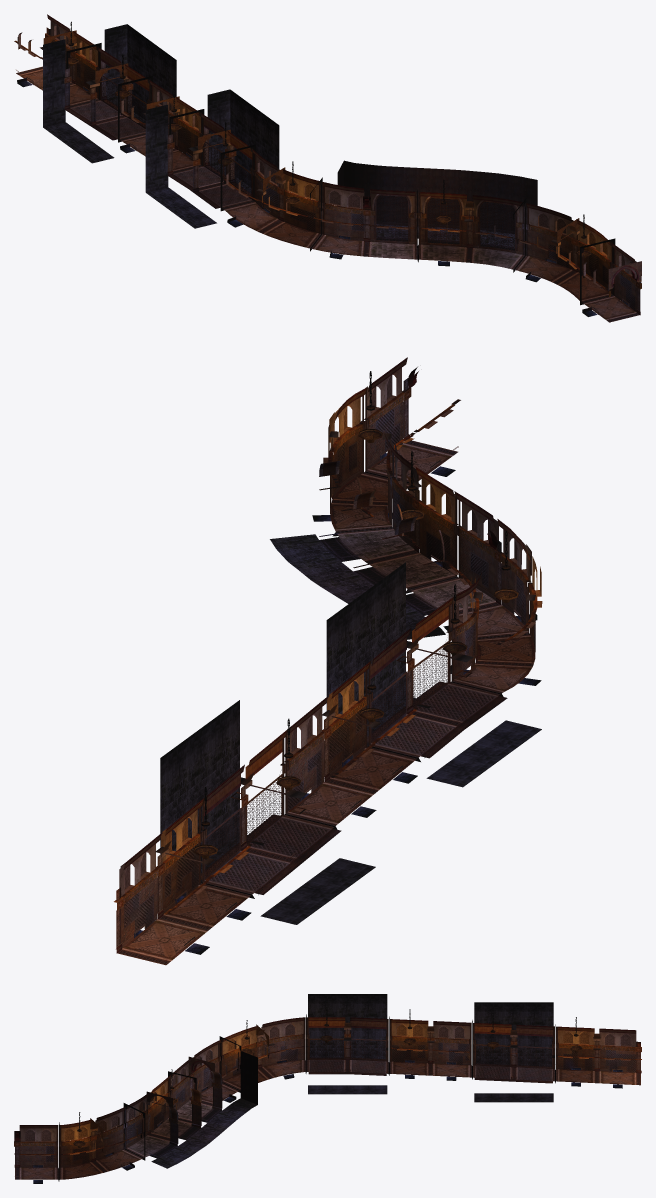
Rendered from 09Hall.gltf.
3 renders of one model, top to bottom at view 1: azimuth 30°, elevation 25°; view 2: azimuth 150°, elevation 25°; view 3: azimuth 270°, elevation 25°, orthographic. The views are drawn at different scales.
Visible parts, largest first — view 1: stg030_o11_Mesh_28, stg030_o11_Mesh_3, stg030_p11_Mesh_1, stg030_o11_Mesh_34, stg030_o11_Mesh_26, stg030_o11_Mesh_32, stg030_o11_Mesh_35, stg030_o11_Mesh_21, stg030_o11_Mesh_9, stg030_o11_Mesh_15, stg030_o11_Mesh_33, stg030_o11_Mesh_13 (+4 smaller); view 2: stg030_o11_Mesh_28, stg030_o11_Mesh_34, stg030_o11_Mesh_26, stg030_o11_Mesh_32, stg030_o11_Mesh_3, stg030_o11_Mesh_9, stg030_o11_Mesh_33, stg030_o11_Mesh_21, stg030_p11_Mesh_1, stg030_o11_Mesh_13, stg030_o11_Mesh_35, stg030_o11_Mesh_15 (+4 smaller); view 3: stg030_o11_Mesh_28, stg030_o11_Mesh_3, stg030_o11_Mesh_26, stg030_o11_Mesh_34, stg030_o11_Mesh_32, stg030_o11_Mesh_9, stg030_o11_Mesh_21, stg030_o11_Mesh_15, stg030_o11_Mesh_13, stg030_p11_Mesh_1, stg030_o11_Mesh_35, stg030_o11_Mesh_33 (+4 smaller).
Boxes of the visible parts, <box> form: stg030_o11_Mesh_28: <box>17,24,627,316</box>; stg030_o11_Mesh_3: <box>17,30,641,312</box>; stg030_p11_Mesh_1: <box>101,75,517,253</box>; stg030_o11_Mesh_34: <box>20,70,635,319</box>; stg030_o11_Mesh_26: <box>65,62,635,310</box>; stg030_o11_Mesh_32: <box>18,23,636,320</box>; stg030_o11_Mesh_35: <box>64,43,615,305</box>; stg030_o11_Mesh_21: <box>16,14,640,322</box>; stg030_o11_Mesh_9: <box>14,33,641,296</box>; stg030_o11_Mesh_15: <box>26,25,636,314</box>; stg030_o11_Mesh_33: <box>16,46,639,322</box>; stg030_o11_Mesh_13: <box>50,21,636,273</box>; stg030_o11_Mesh_28: <box>134,453,541,954</box>; stg030_o11_Mesh_34: <box>123,444,535,959</box>; stg030_o11_Mesh_26: <box>124,408,535,931</box>; stg030_o11_Mesh_32: <box>122,373,542,961</box>; stg030_o11_Mesh_3: <box>121,401,537,944</box>; stg030_o11_Mesh_9: <box>114,385,537,914</box>; stg030_o11_Mesh_33: <box>117,386,533,965</box>; stg030_o11_Mesh_21: <box>116,357,532,961</box>; stg030_p11_Mesh_1: <box>204,641,448,880</box>; stg030_o11_Mesh_13: <box>119,368,537,896</box>; stg030_o11_Mesh_35: <box>197,385,532,898</box>; stg030_o11_Mesh_15: <box>120,375,541,947</box>; stg030_o11_Mesh_28: <box>33,994,622,1183</box>; stg030_o11_Mesh_3: <box>19,1022,636,1167</box>; stg030_o11_Mesh_26: <box>46,1042,636,1164</box>; stg030_o11_Mesh_34: <box>21,1060,634,1179</box>; stg030_o11_Mesh_32: <box>19,1023,636,1179</box>; stg030_o11_Mesh_9: <box>14,1031,641,1154</box>; stg030_o11_Mesh_21: <box>14,1017,641,1167</box>; stg030_o11_Mesh_15: <box>20,1024,630,1167</box>; stg030_o11_Mesh_13: <box>19,1021,636,1141</box>; stg030_p11_Mesh_1: <box>308,1038,552,1068</box>; stg030_o11_Mesh_35: <box>56,1014,558,1181</box>; stg030_o11_Mesh_33: <box>15,1017,640,1179</box>.
Size of the model in its own units: 52.98 by 19.99 by 130.
Materials: 19 (19 with a texture image).
